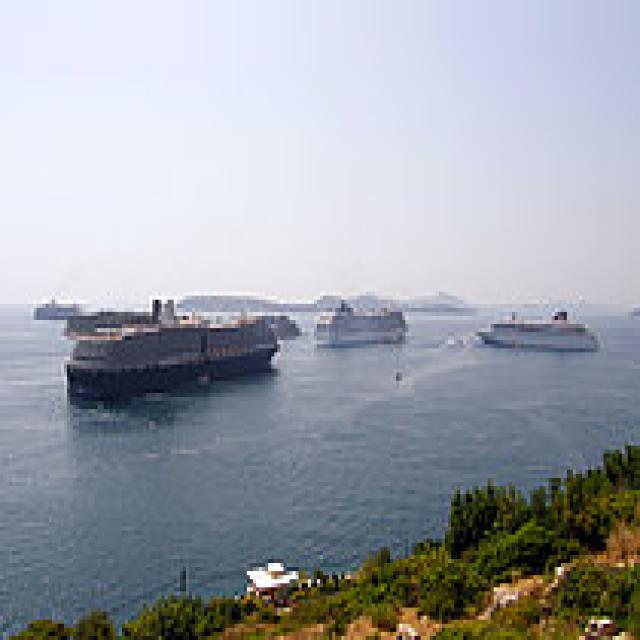Cruise: (58, 292, 280, 393), (470, 304, 600, 352), (305, 292, 408, 348)
